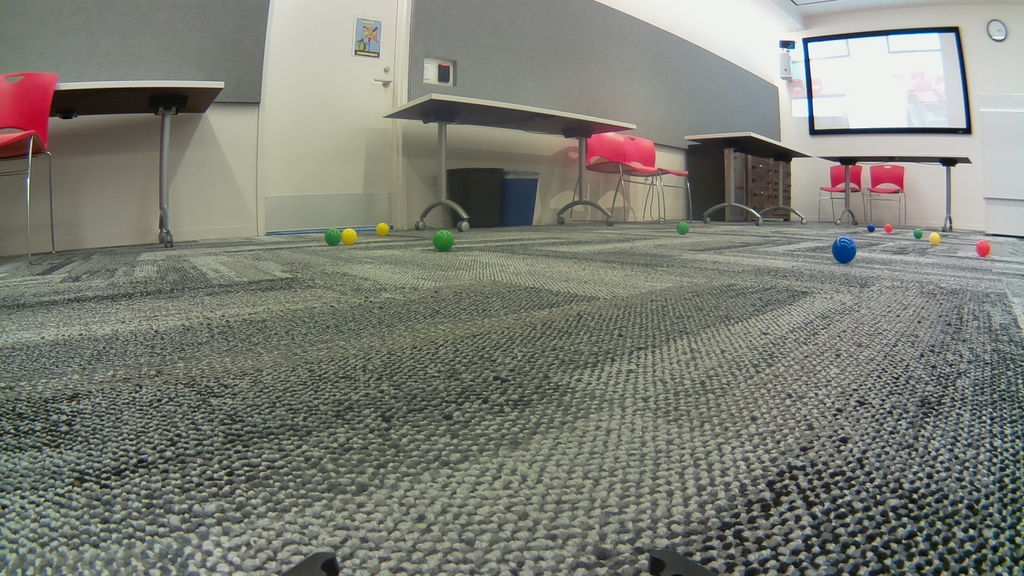ball: (885, 223, 892, 233)
